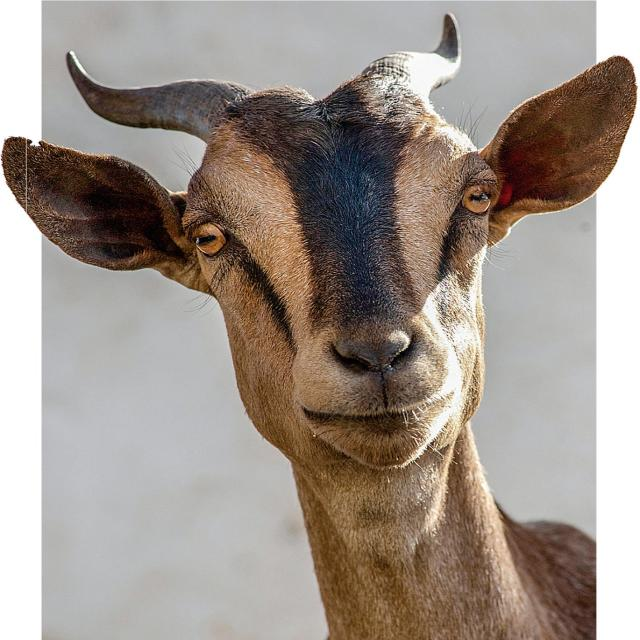Goat: (0, 15, 638, 640)
